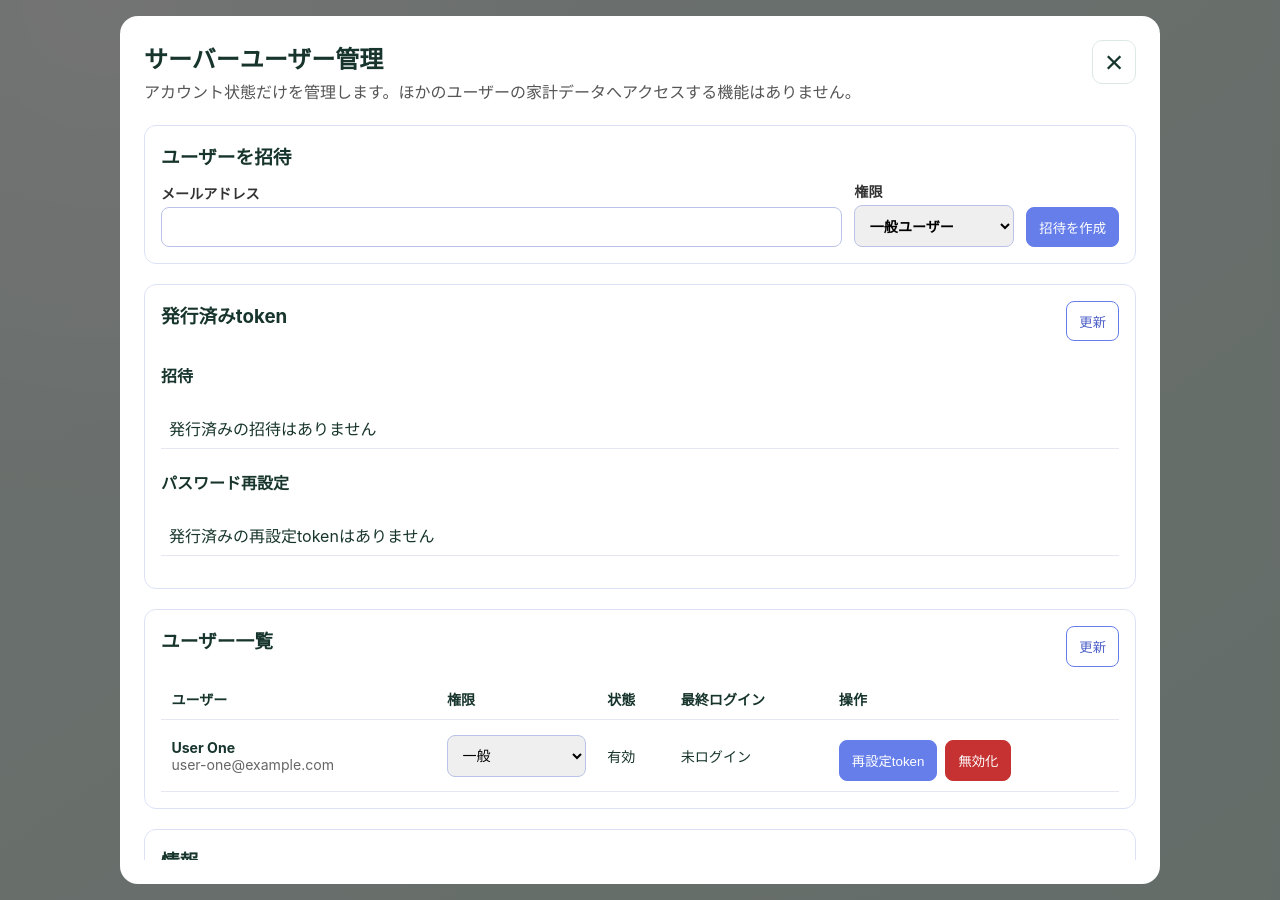
Test: ServerAccountAdminModal › fails closed when invitation creation returns no token
The width and height of the screenshot is (1280, 900).
Type "new-user@example.com" into the field labelled "メールアドレス" at (502, 227), box 161,207 -> 842,247
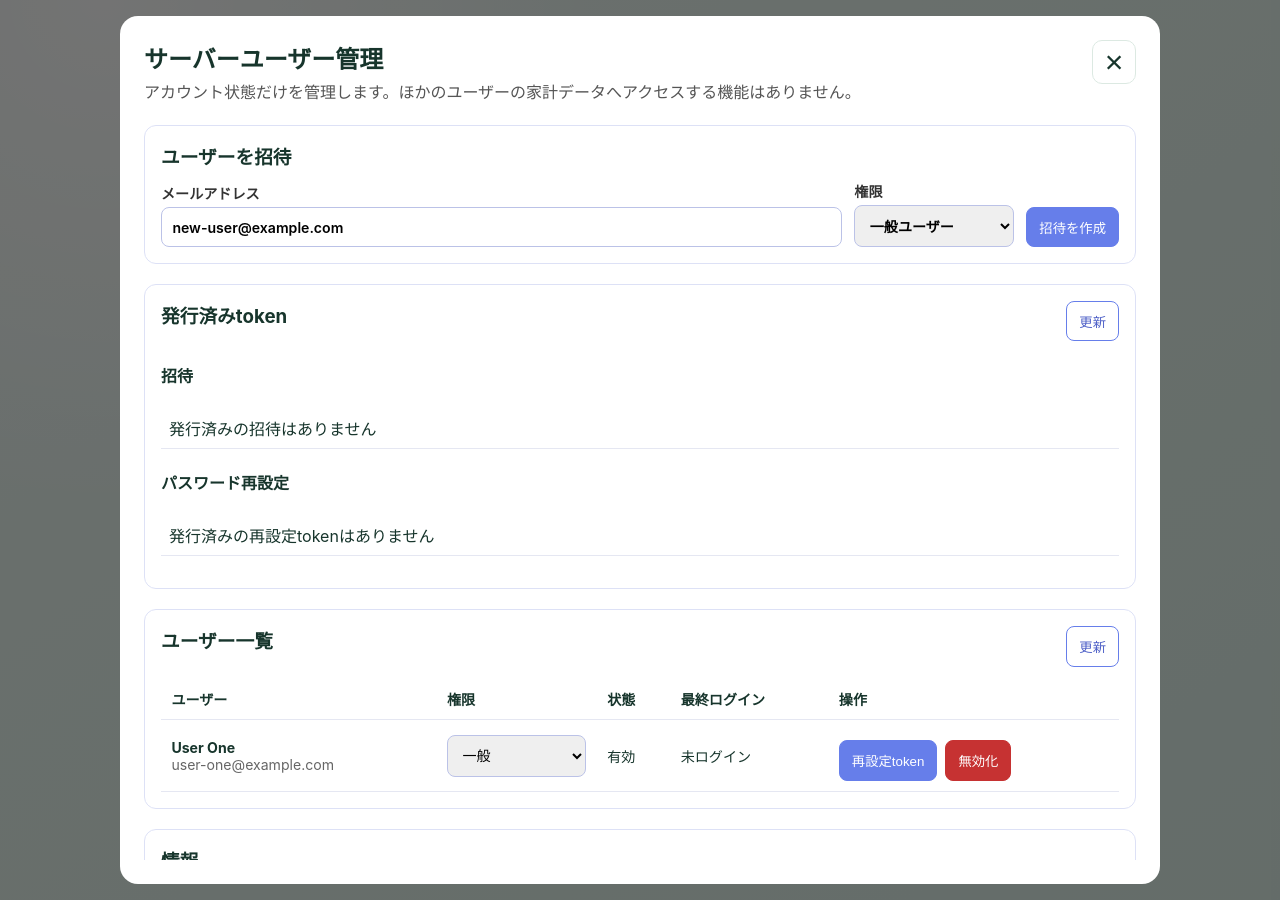
Submit the form with class "invite-form", box 161,181 -> 1119,247
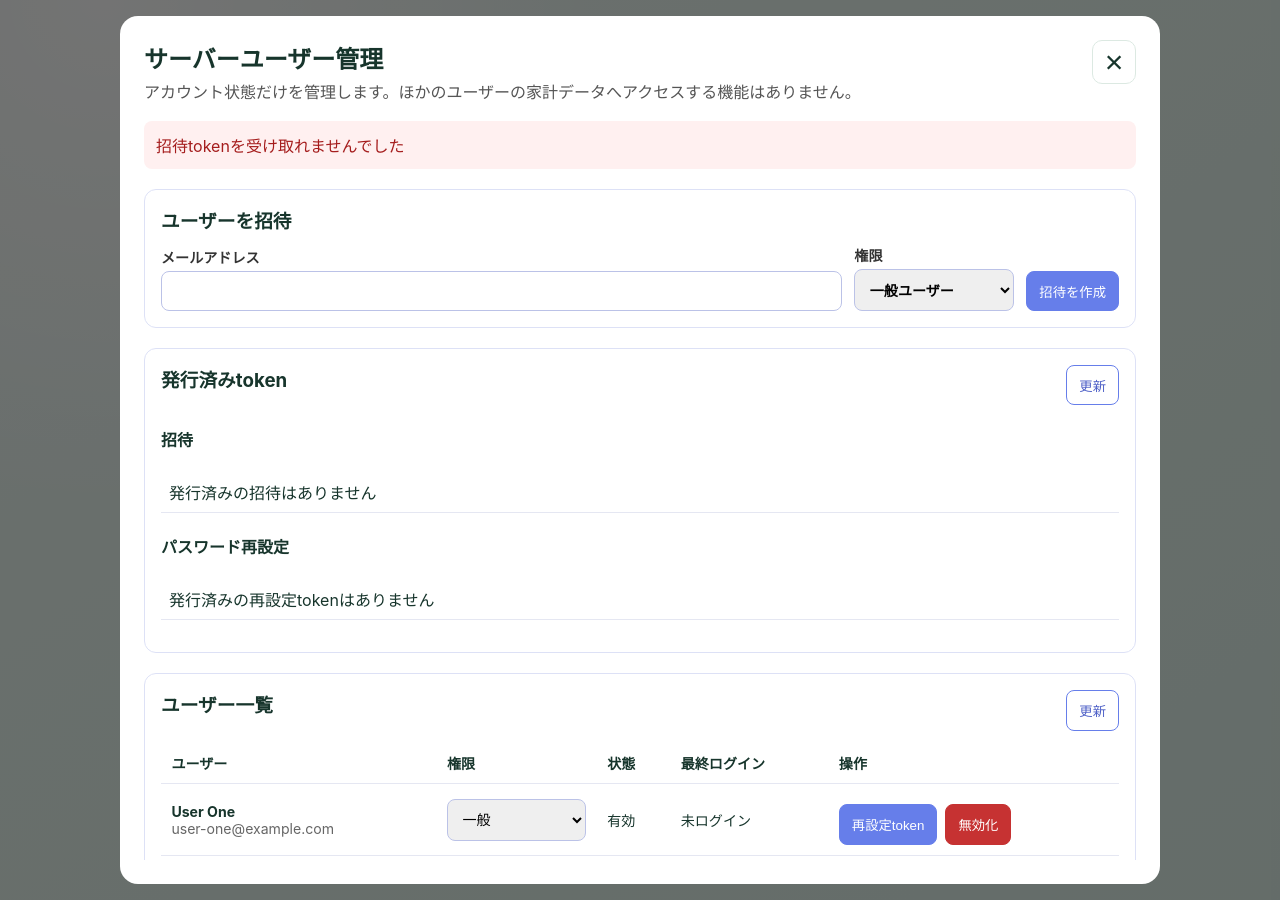
Expected: the message "招待tokenを受け取れませんでした" is shown, 144,121 -> 1136,169
